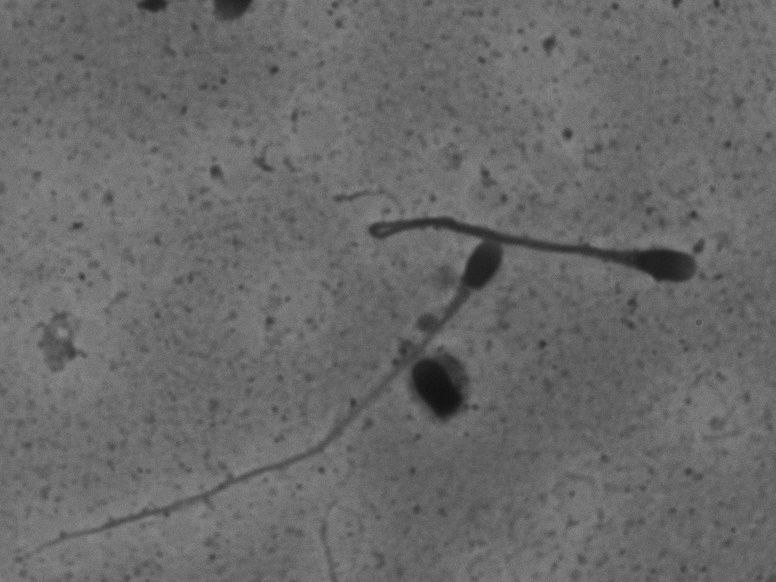Abnormal: (17, 236, 514, 567), (352, 196, 717, 297)
